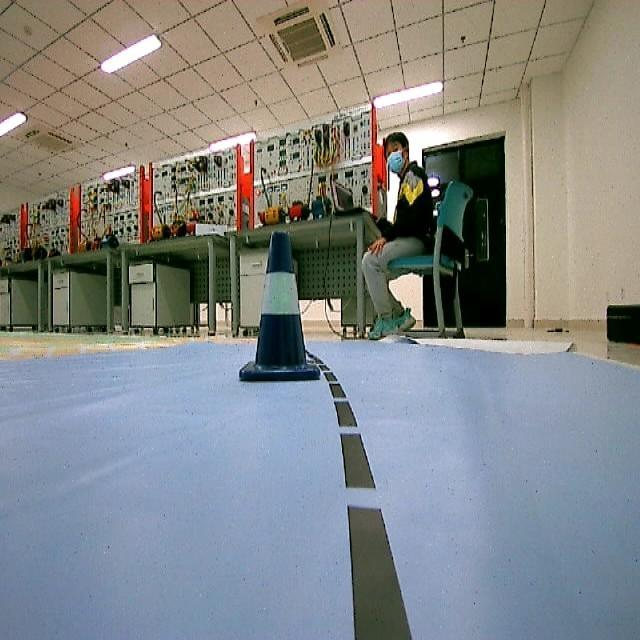obstacle: (237, 226, 322, 386)
